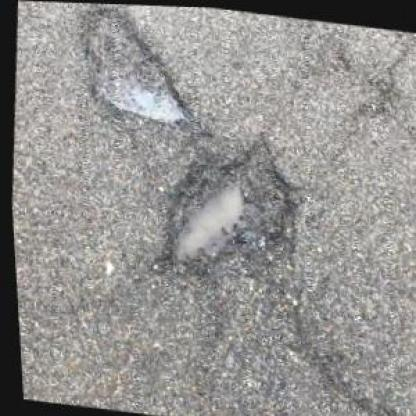pothole: (143, 115, 306, 290), (67, 1, 201, 129)
